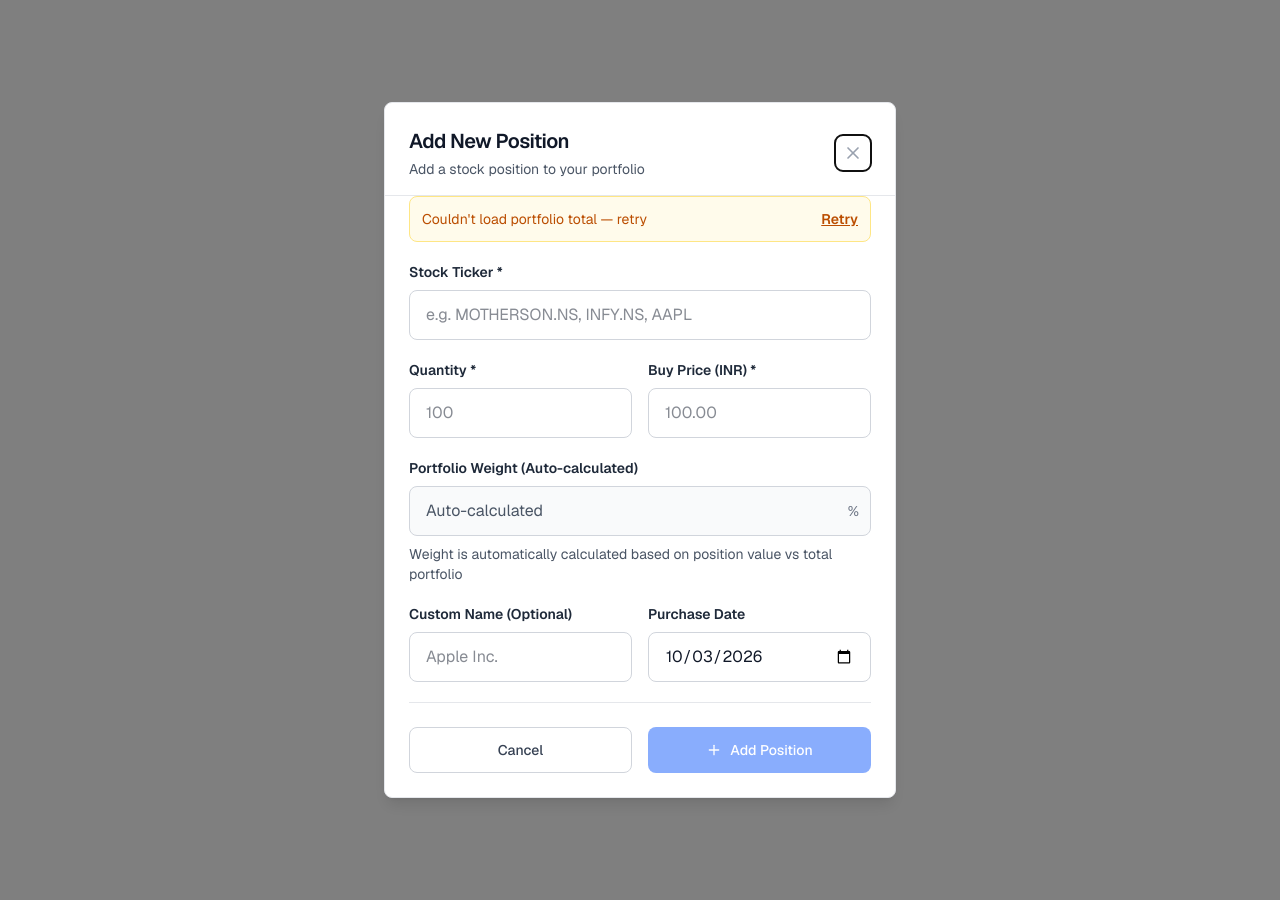
Test case: AddPositionModalSimple Component › recovers after a successful retry
The image size is (1280, 900).
Expected: the text "Couldn't load portfolio total — retry" is shown, [422,209,647,229]
Click the button "Retry": (840,219) [821,209,858,229]
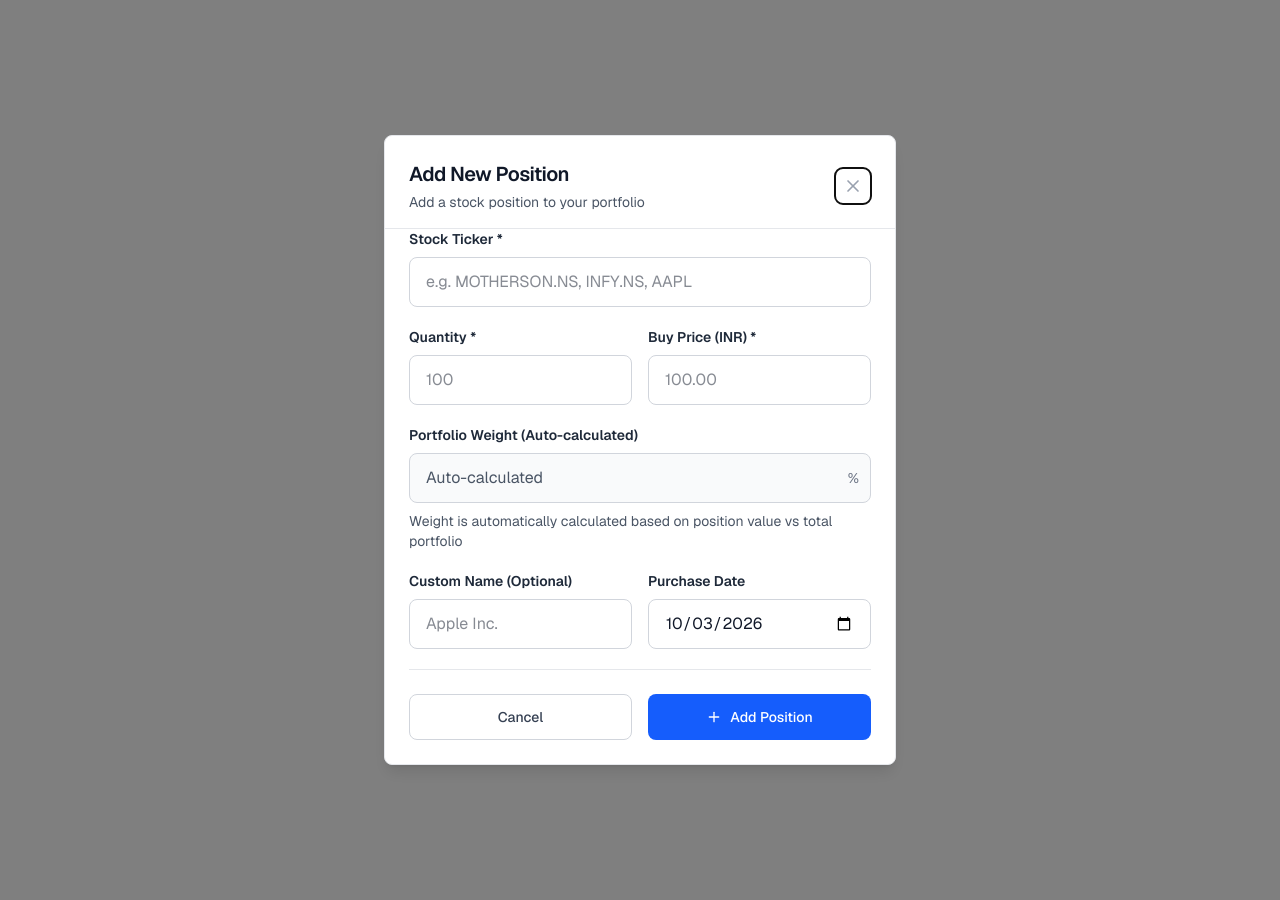
Now the text "Couldn't load portfolio total" is gone
Now the button "Add Position" is enabled, box [648,694,871,740]
